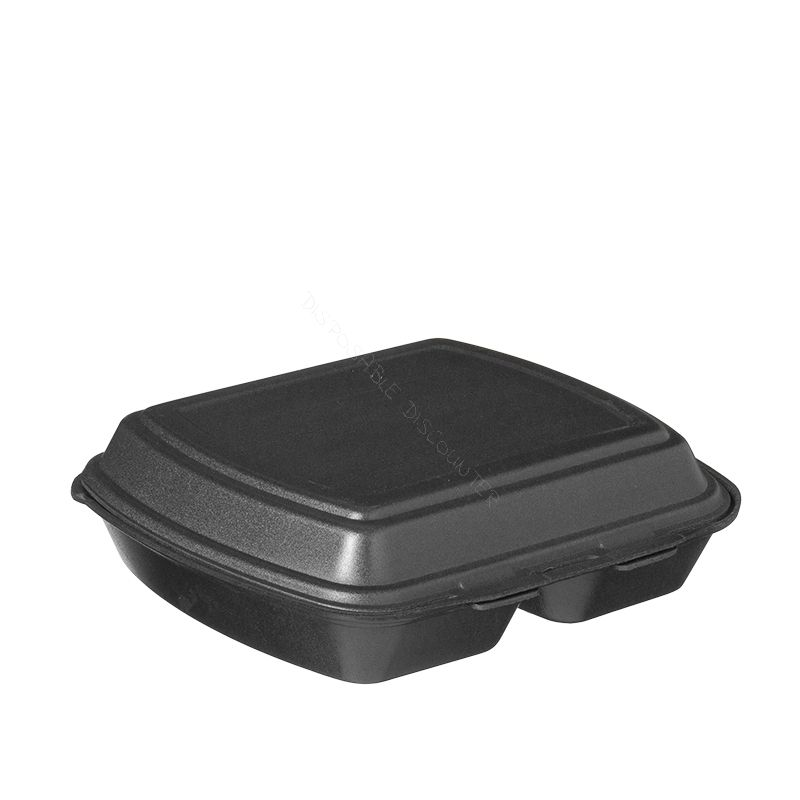Foam Box: (67, 331, 748, 694)
